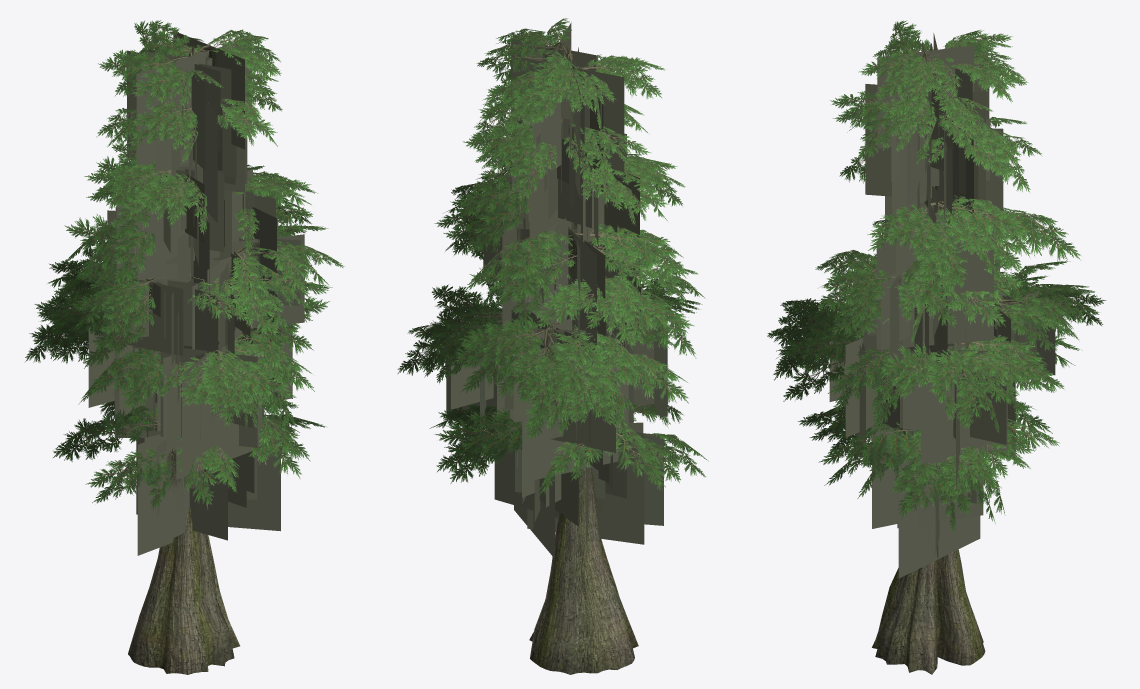
File: cypress_bald.glb
The picture shows the model from 3 angles, left to right: view 1: azimuth 30°, elevation 25°; view 2: azimuth 150°, elevation 25°; view 3: azimuth 270°, elevation 25°; orthographic projection.
Visible parts, largest first — view 1: cypres_chauve_cypreschauve_needles_D_cypreschauve_needles_D_, cypres_chauve_CypresChauve_mousse_D_CypresChauve_mousse_D_0, cypres_chauve_cypreschauve_bark_D_cypreschauve_bark_D_0; view 2: cypres_chauve_cypreschauve_needles_D_cypreschauve_needles_D_, cypres_chauve_CypresChauve_mousse_D_CypresChauve_mousse_D_0, cypres_chauve_cypreschauve_bark_D_cypreschauve_bark_D_0; view 3: cypres_chauve_cypreschauve_needles_D_cypreschauve_needles_D_, cypres_chauve_CypresChauve_mousse_D_CypresChauve_mousse_D_0, cypres_chauve_cypreschauve_bark_D_cypreschauve_bark_D_0.
Part boxes in pixels (<box>): cypres_chauve_cypreschauve_needles_D_cypreschauve_needles_D_: <box>25,20,344,511</box>; cypres_chauve_CypresChauve_mousse_D_CypresChauve_mousse_D_0: <box>88,31,304,555</box>; cypres_chauve_cypreschauve_bark_D_cypreschauve_bark_D_0: <box>128,44,257,674</box>; cypres_chauve_cypreschauve_needles_D_cypreschauve_needles_D_: <box>397,18,708,495</box>; cypres_chauve_CypresChauve_mousse_D_CypresChauve_mousse_D_0: <box>446,22,667,558</box>; cypres_chauve_cypreschauve_bark_D_cypreschauve_bark_D_0: <box>484,42,638,674</box>; cypres_chauve_cypreschauve_needles_D_cypreschauve_needles_D_: <box>767,20,1106,532</box>; cypres_chauve_CypresChauve_mousse_D_CypresChauve_mousse_D_0: <box>829,33,1055,578</box>; cypres_chauve_cypreschauve_bark_D_cypreschauve_bark_D_0: <box>861,43,1022,674</box>.
Size of the model in its own units: 11.77 by 24.07 by 13.05.
3 materials, 3 textured.
